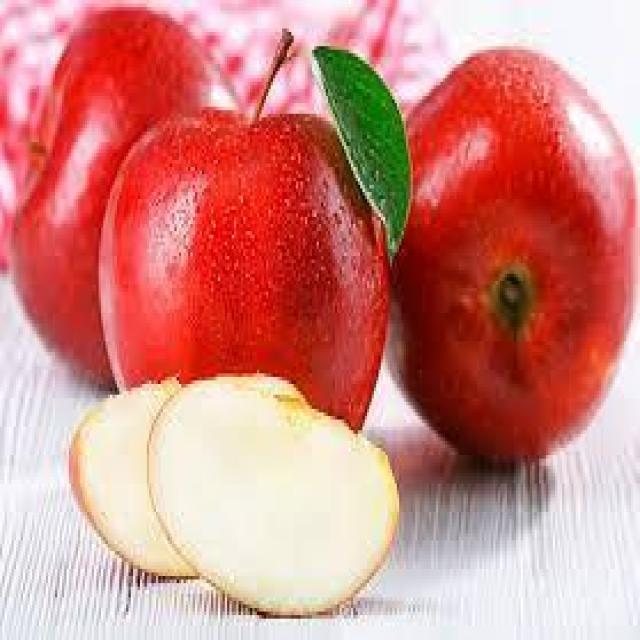maca: (390, 43, 638, 462), (8, 9, 250, 390), (119, 56, 358, 427), (67, 370, 399, 615)
